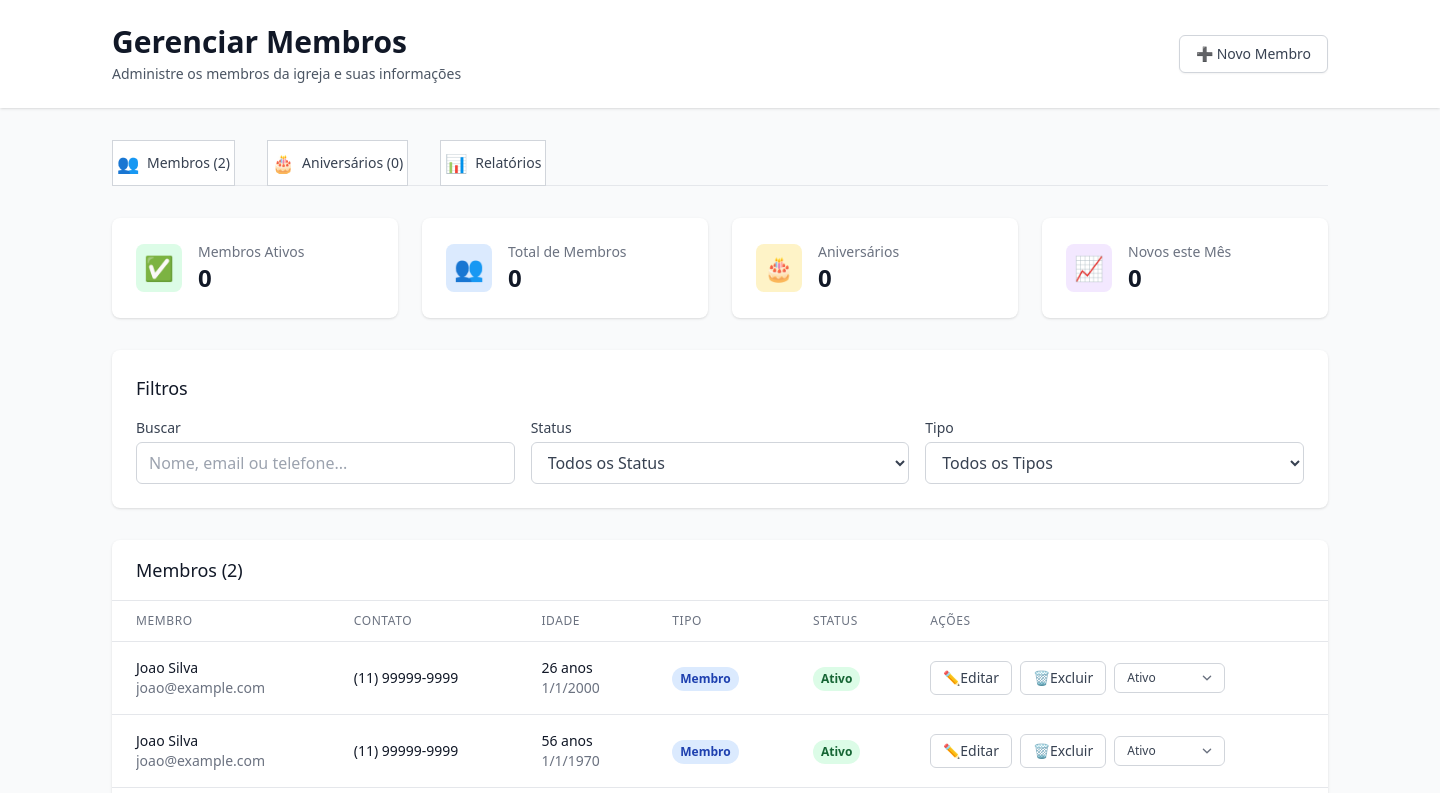
Test: MembersManagementPage › Reports Tab › should display age distribution
The width and height of the screenshot is (1440, 793).
Expected: the text "Joao Silva" in the row of "26" is shown, [136,658,198,677]
Note: Switch to reports tab
What coordinates should you click on to do the following:
click the button "📊 Relatórios"
I would click on:
 (493, 163)
Its box is [440,140,546,186].
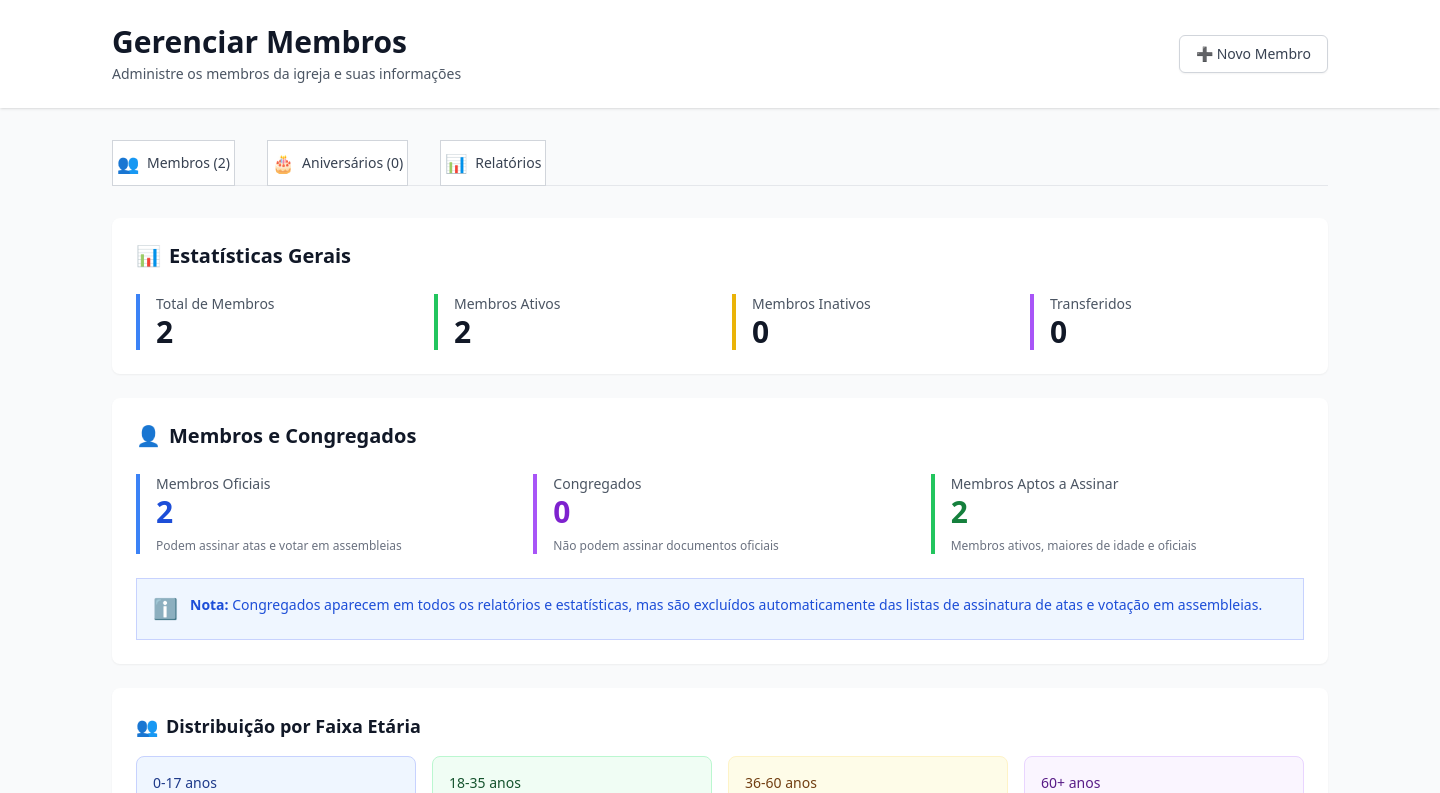
Expected: the heading "👥 Distribuição por Faixa Etária" is shown, [136,714,421,738]
